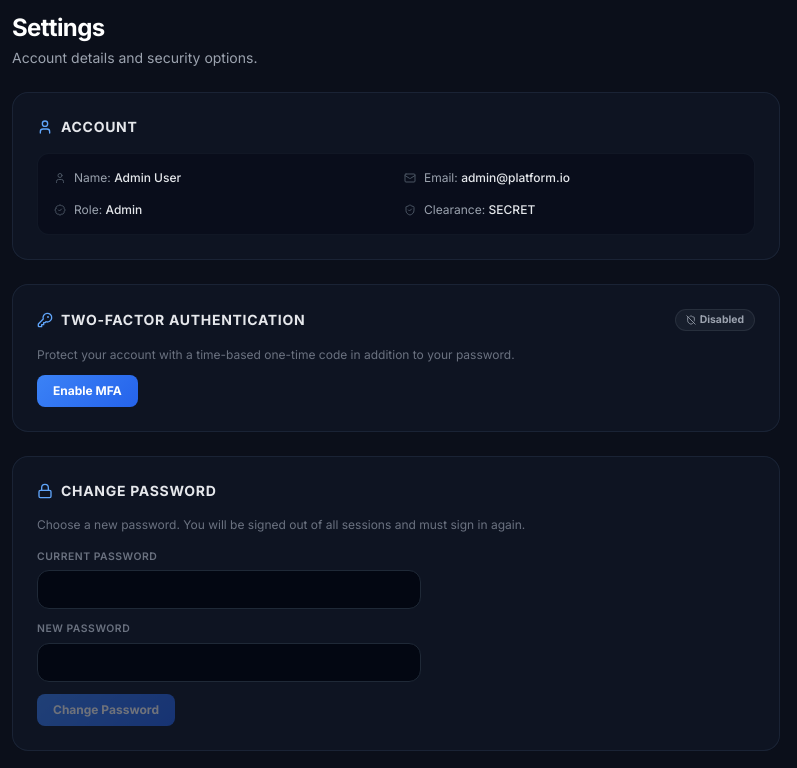
Test: <Settings /> change password form › keeps the submit button disabled until a current password and a >=6 char new password are entered
This screenshot has width=797, height=768.
expect the button "Change Password" is disabled: met, box [37,694,175,726]
Type "oldpass" into the password field below "Current Password". click: (229, 590)
box: [37,570,421,609]
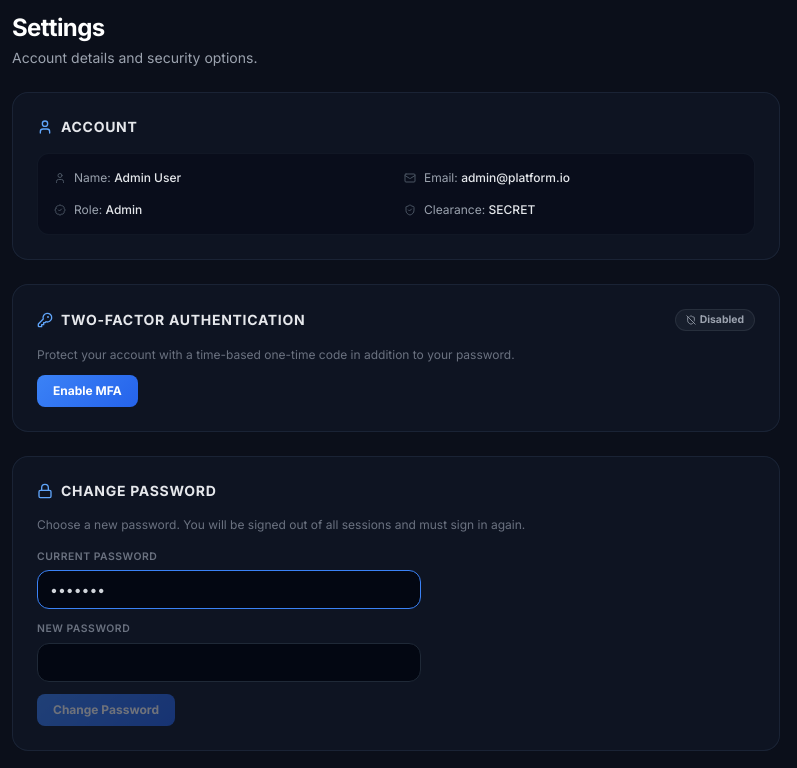
expect the button "Change Password" is disabled: met, box [37,694,175,726]
Type "123" into the 2nd password field. click: (229, 662)
box: [37,643,421,682]
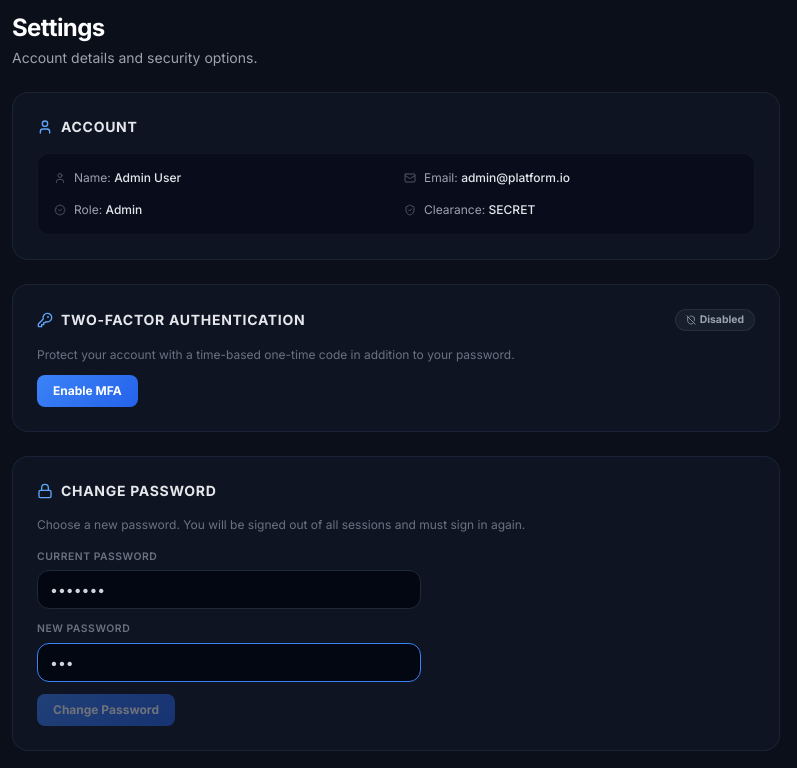
expect the button "Change Password" is disabled: met, box [37,694,175,726]
Type "456" into the 2nd password field. click: (229, 662)
box: [37,643,421,682]
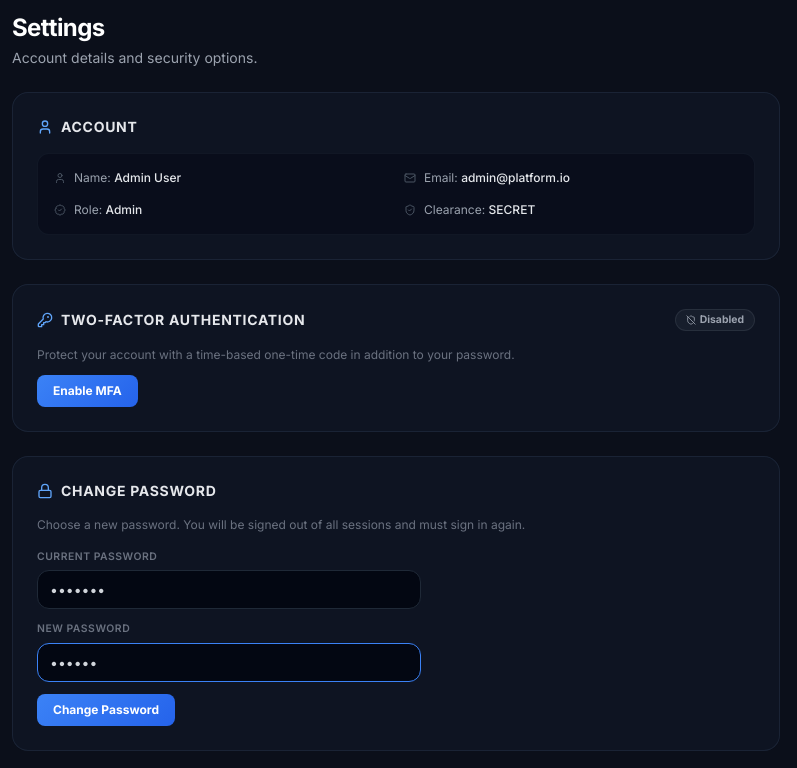
expect the button "Change Password" is enabled: met, box [37,694,175,726]
